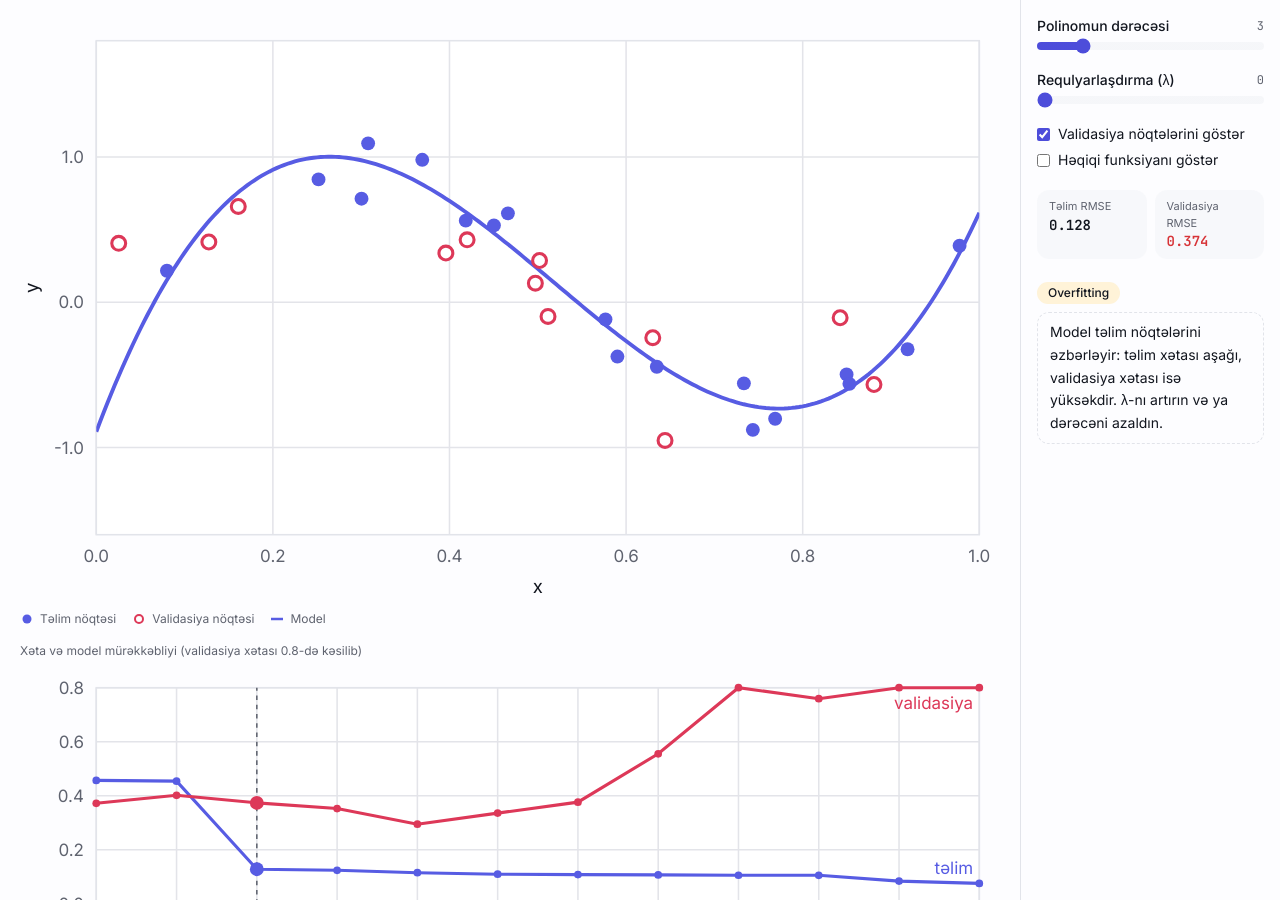
Test: interactive demos (smoke) › overfitting: high degree without regularization is diagnosed as overfitting
This screenshot has width=1280, height=900.
Set the slider labelled "Polinomun dərəcəsi" to "12" at (1256, 46), box [1037,42,1264,50]
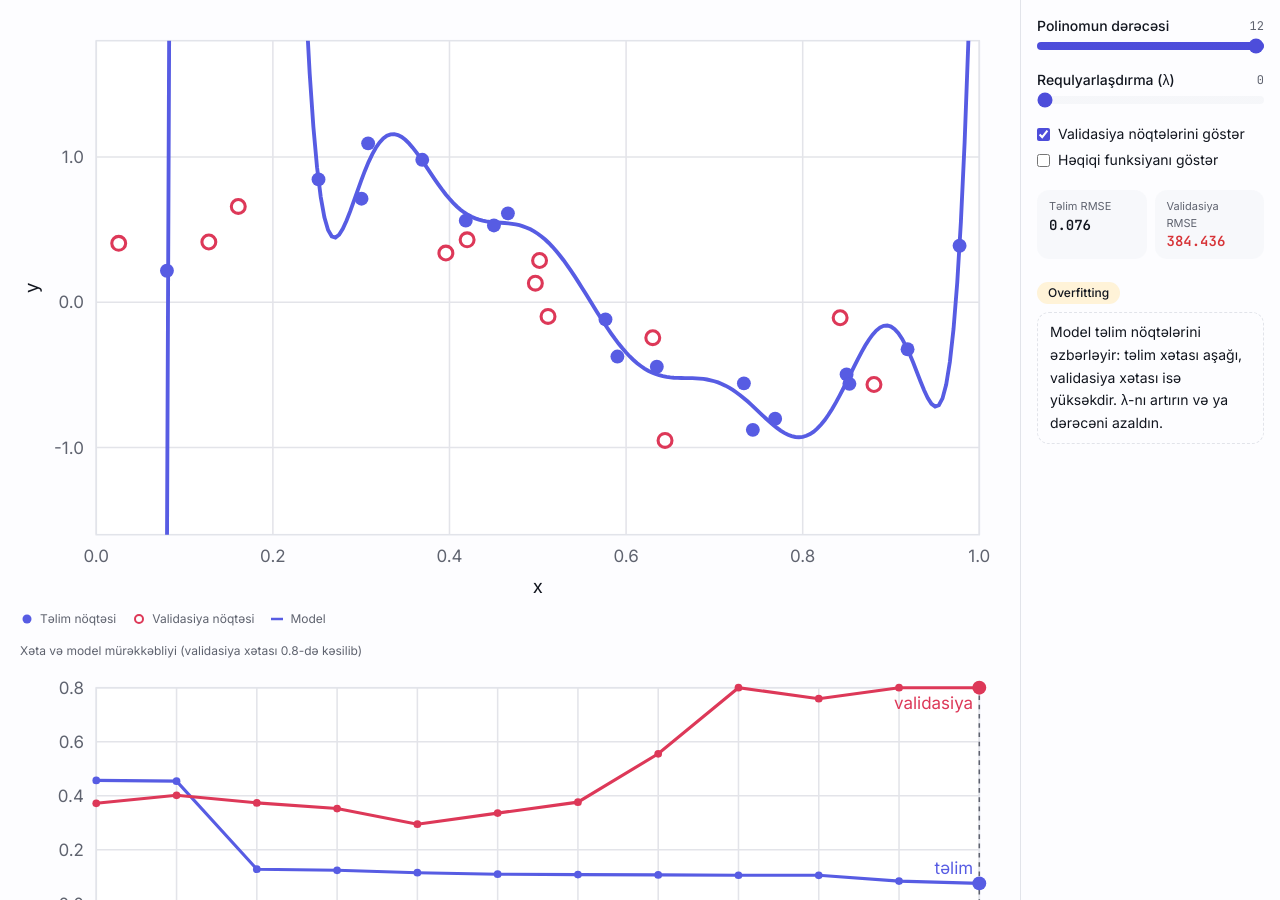
Expected: the text "Overfitting" is shown, [1037,282,1120,304]
Set the slider labelled "Polinomun dərəcəsi" to "1" at (1045, 46), box [1037,42,1264,50]
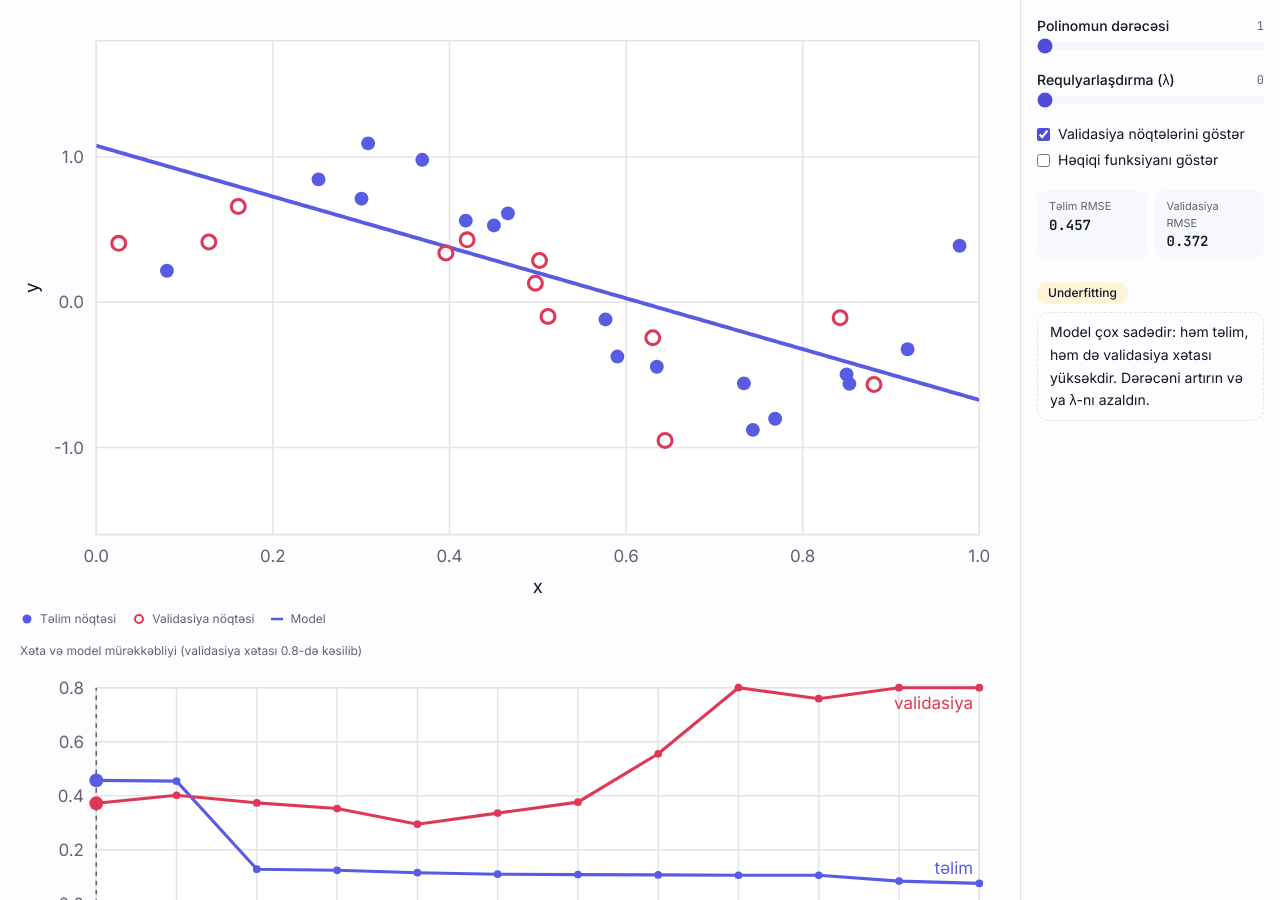
Expected: the text "Underfitting" is shown, [1037,282,1128,304]
